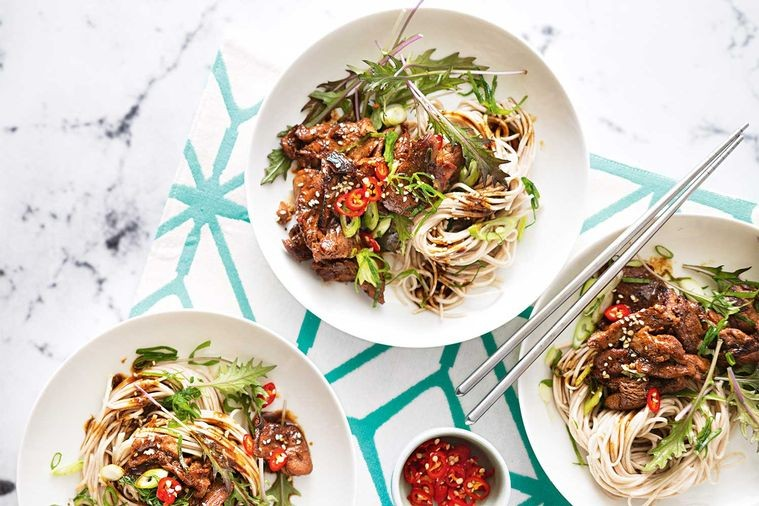Soba: (395, 100, 549, 322), (560, 339, 747, 506), (77, 353, 275, 506)
